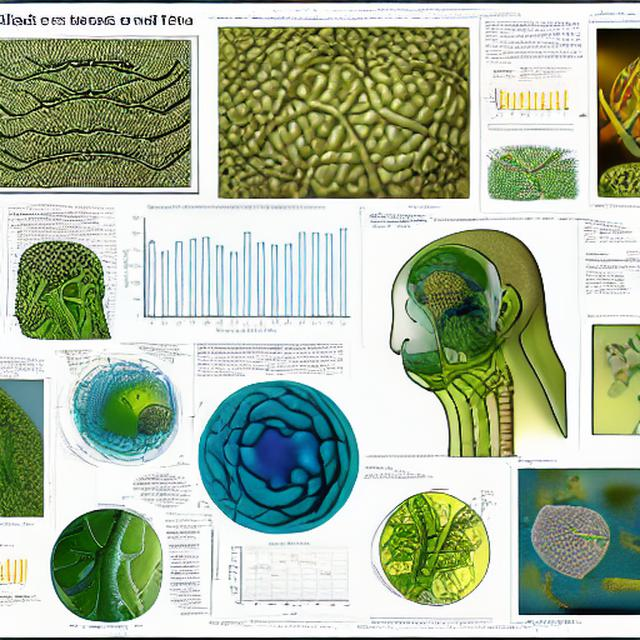Graph: (117, 200, 356, 340), (226, 540, 352, 611), (486, 75, 570, 123)
